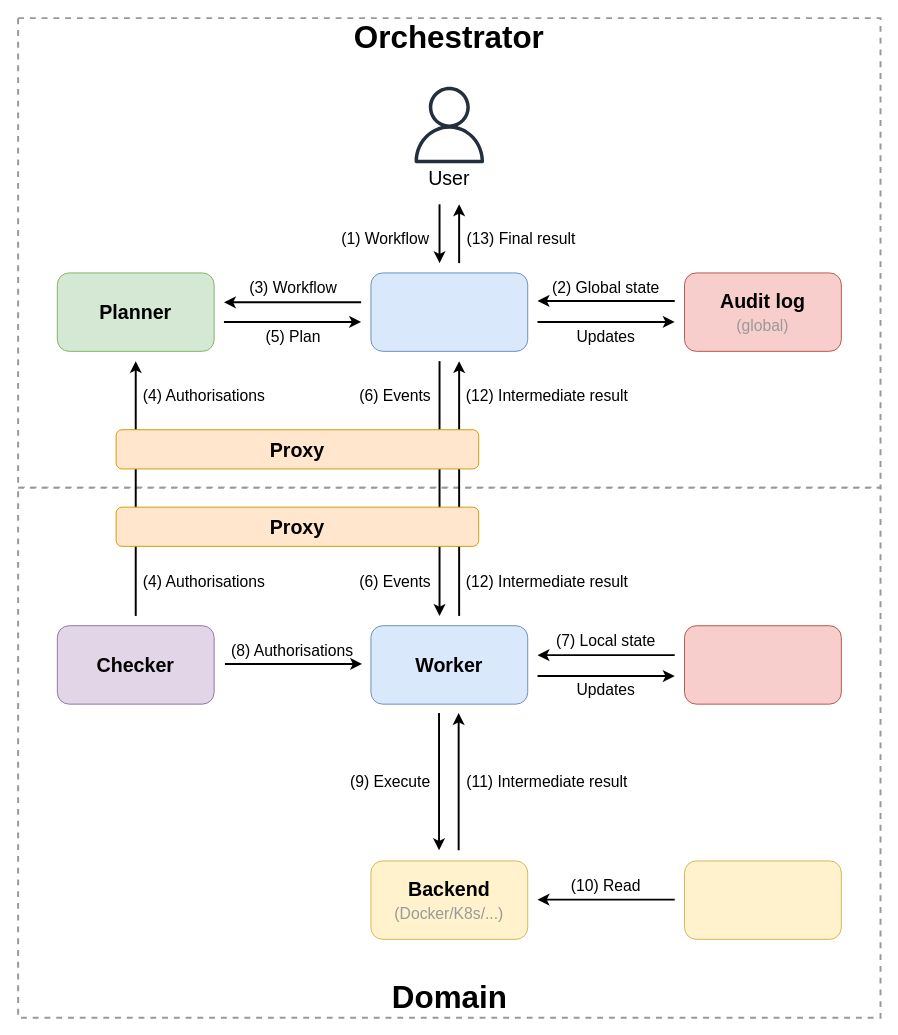
The diagram is 898 pixels wide and 1035 high, and some of its shapes have lost their labels. The box of each missing label's shape, as (x1, y1, x2, y2) in pixels:
Audit log (local): (684, 625, 841, 704)
Data source (file/stream/...): (684, 860, 841, 939)
Driver: (370, 272, 528, 351)
